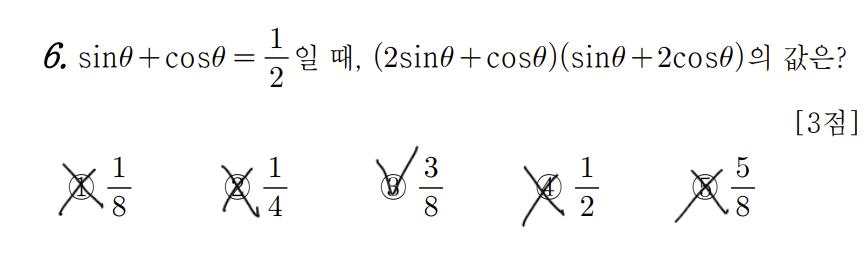1: (373, 144, 421, 206)
paper: (67, 170, 100, 204), (221, 169, 254, 203), (377, 170, 410, 204), (533, 170, 566, 204), (687, 172, 720, 206)
